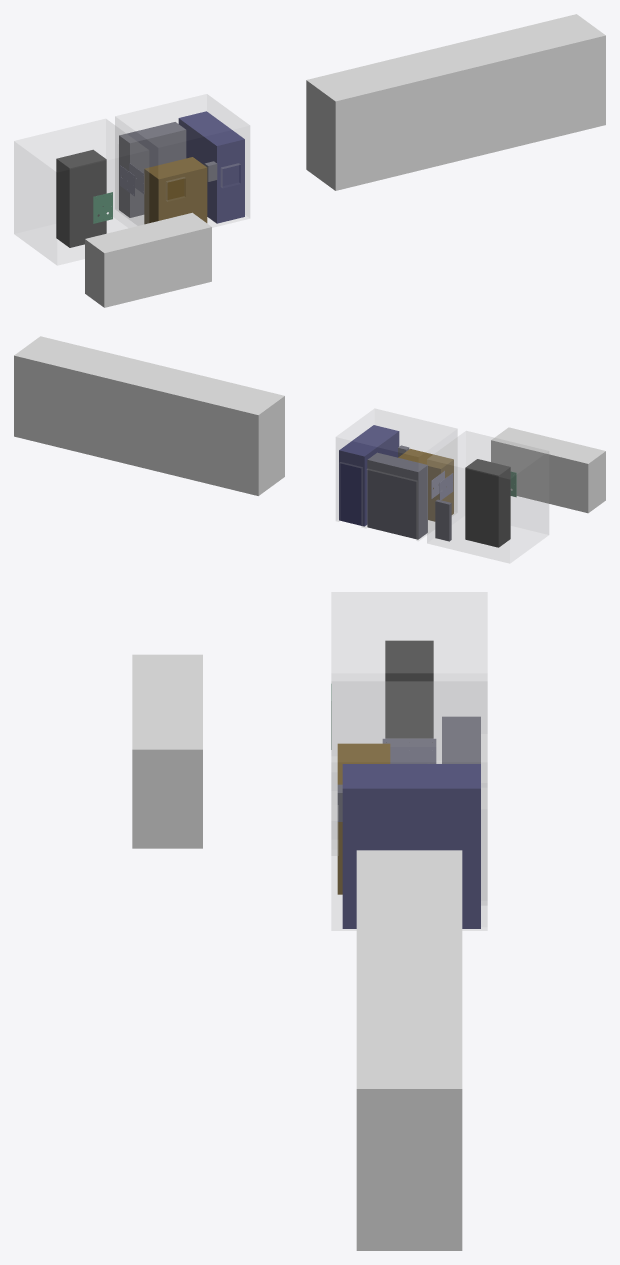
Rendered from assembly.glb.
The picture shows the model from 3 angles, top to bottom: view 1: azimuth 30°, elevation 25°; view 2: azimuth 150°, elevation 25°; view 3: azimuth 270°, elevation 25°; orthographic projection. The views are drawn at different scales.
Visible parts, largest first — view 1: EXT-BESS-001, container_shell (×2), EXT-DC-001, GRD-SWG-001, CMP-RACK-001, GRD-XFM-001, GRD-LVS-001, ARC-PLT-CD; view 2: EXT-BESS-001, container_shell (×2), EXT-DC-001, GRD-LVS-001, CMP-RACK-001, GRD-SWG-001, GRD-XFM-001, CMP-PNL-001; view 3: container_shell (×2), EXT-BESS-001, GRD-SWG-001, EXT-DC-001, CMP-RACK-001, GRD-LVS-001, GRD-XFM-001.
Part boxes in pixels (<box>): EXT-BESS-001: <box>306,14,605,190</box>; container_shell (×2): <box>14,94,249,265</box>; EXT-DC-001: <box>85,212,211,307</box>; GRD-SWG-001: <box>178,111,244,223</box>; CMP-RACK-001: <box>56,149,106,247</box>; GRD-XFM-001: <box>144,157,207,223</box>; GRD-LVS-001: <box>119,122,186,217</box>; ARC-PLT-CD: <box>93,192,112,223</box>; EXT-BESS-001: <box>14,336,284,495</box>; container_shell (×2): <box>336,408,548,563</box>; EXT-DC-001: <box>491,427,605,513</box>; GRD-LVS-001: <box>367,452,427,539</box>; CMP-RACK-001: <box>465,459,510,547</box>; GRD-SWG-001: <box>339,425,399,526</box>; GRD-XFM-001: <box>398,448,453,521</box>; CMP-PNL-001: <box>435,499,451,541</box>; container_shell (×2): <box>331,592,487,930</box>; EXT-BESS-001: <box>356,850,462,1250</box>; GRD-SWG-001: <box>342,764,480,928</box>; EXT-DC-001: <box>132,654,202,848</box>; CMP-RACK-001: <box>385,640,433,742</box>; GRD-LVS-001: <box>442,716,480,763</box>; GRD-XFM-001: <box>337,743,390,894</box>.
Bounding box in the file's own units: 18336 × 2896 × 5538.
